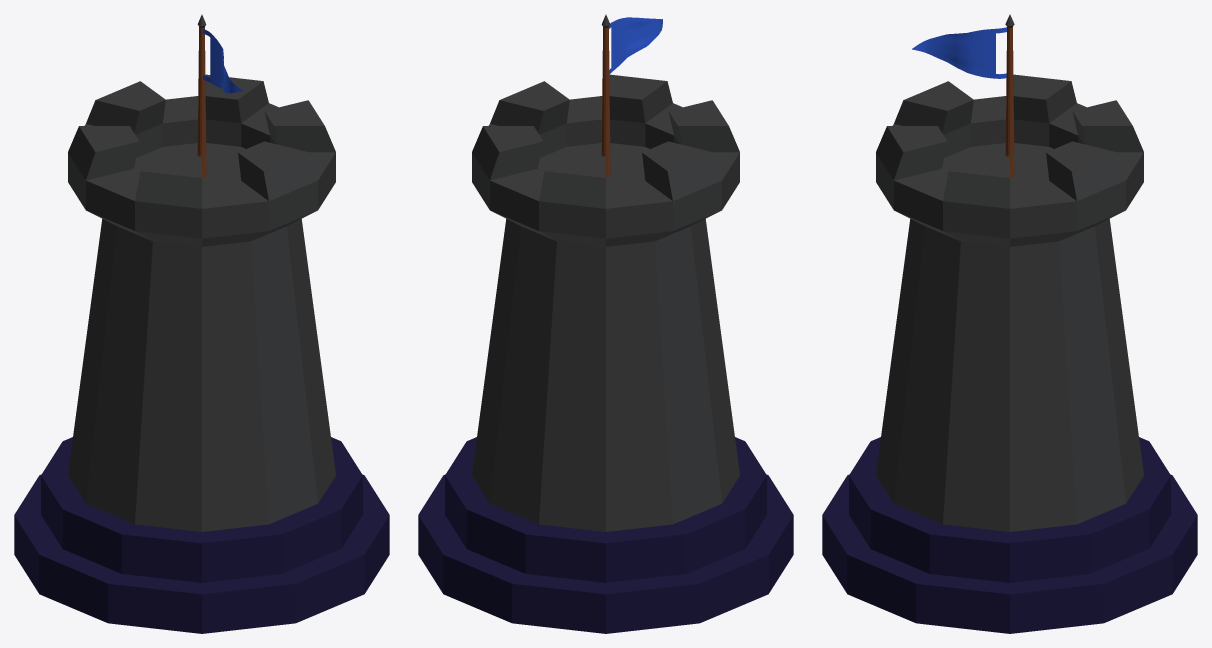
Rendered from tower.gltf.
3 renders of one model, left to right at view 1: azimuth 30°, elevation 25°; view 2: azimuth 150°, elevation 25°; view 3: azimuth 270°, elevation 25°, orthographic.
Visible parts, largest first — view 1: Tower, Flag; view 2: Tower, Flag; view 3: Tower, Flag.
Boxes of the visible parts, bbox=[...] form: Tower: bbox=[14, 14, 389, 633]; Flag: bbox=[202, 29, 242, 93]; Tower: bbox=[418, 14, 793, 633]; Flag: bbox=[609, 17, 662, 74]; Tower: bbox=[822, 14, 1197, 633]; Flag: bbox=[912, 27, 1006, 78].
Size of the model in its own units: 8.63 by 13.71 by 8.63.
